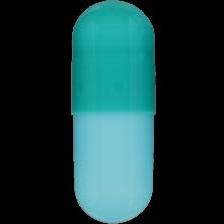50436-1006: (0, 0, 224, 224)
